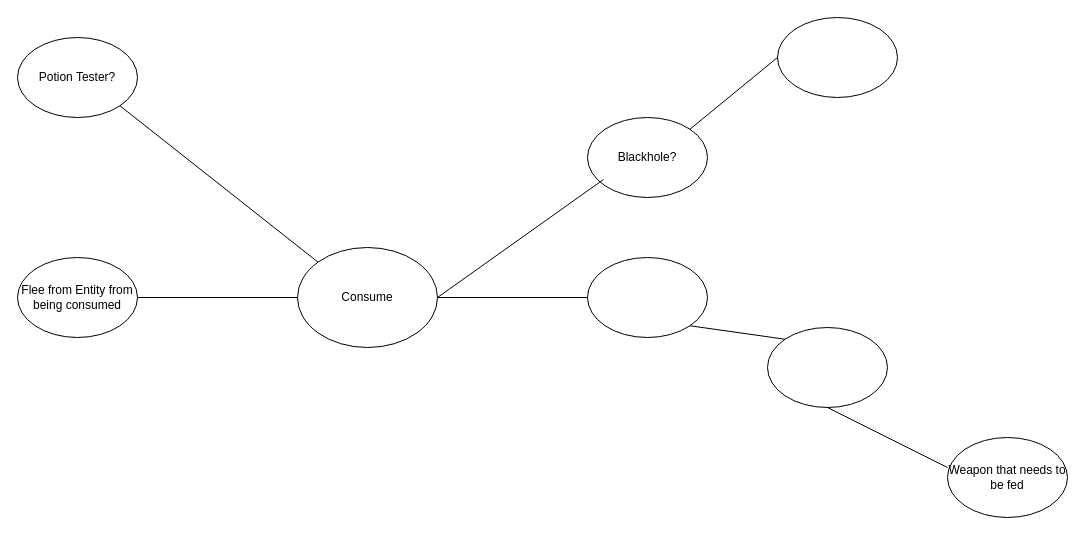
Some shapes in this 1085 by 535 pixel diagram are drawn without their labels. The shapes that lost their labels are listed below. From the top down, each one's centre as x and y in pixels, then its label:
At point (837, 57): "Stop Blackhole from consuming World?".
At point (647, 297): "Collection of food, souls etc.".
At point (827, 367): "Feed entity, like god etc..".
